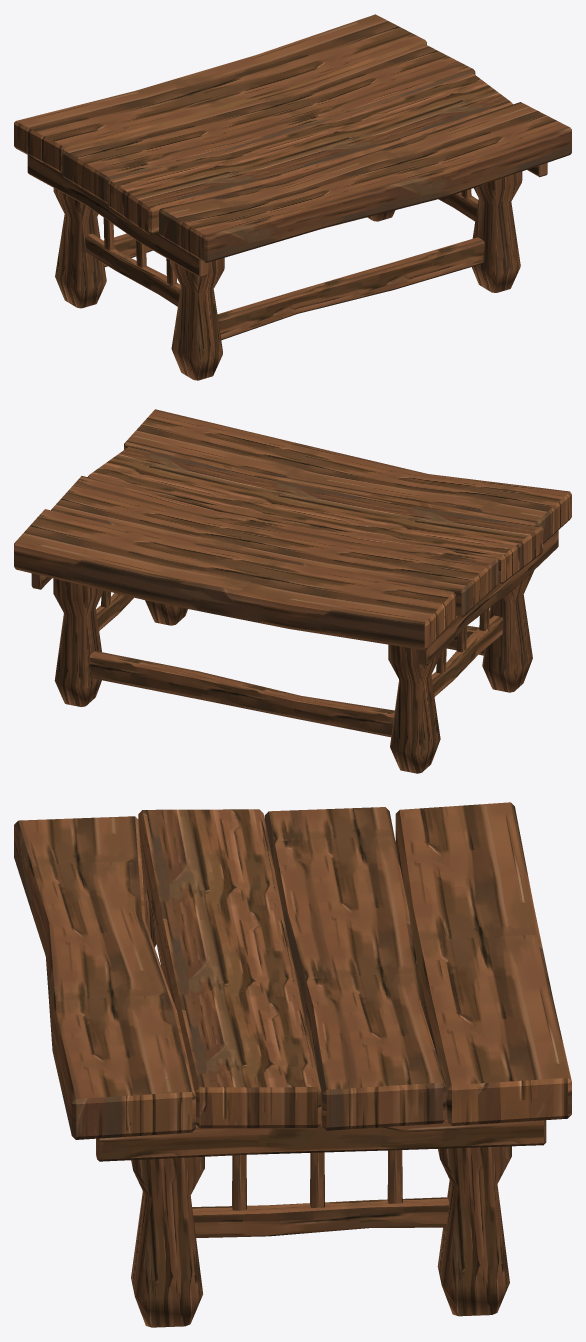
Rendered from Table_2.fbx.
3 views of the same model, one above another, from view 1: azimuth 30°, elevation 25°; view 2: azimuth 150°, elevation 25°; view 3: azimuth 270°, elevation 25° (orthographic). The views are drawn at different scales.
Parts seen in each view (by area): view 1: 1_Table_2; view 2: 1_Table_2; view 3: 1_Table_2.
Boxes of the visible parts, x1,y1,x2,y2 form: 1_Table_2: (14,14,571,380); 1_Table_2: (14,409,571,773); 1_Table_2: (14,802,571,1327).
Bounding box in the file's own units: 181 × 71.08 × 142.
